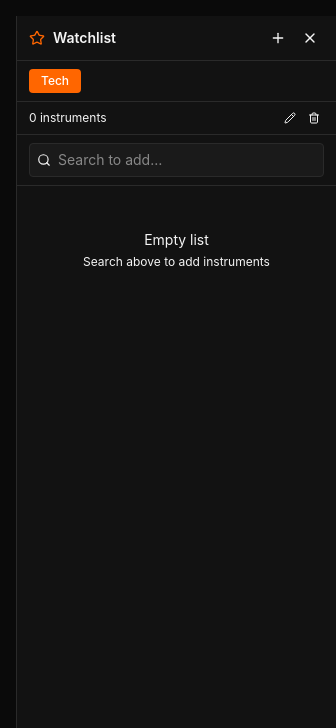
Test: add instrument › shows search results while typing
This screenshot has width=336, height=728.
Type "INFY" into the field with placeholder "Search to add…" at (176, 160), box [29,143,324,177]
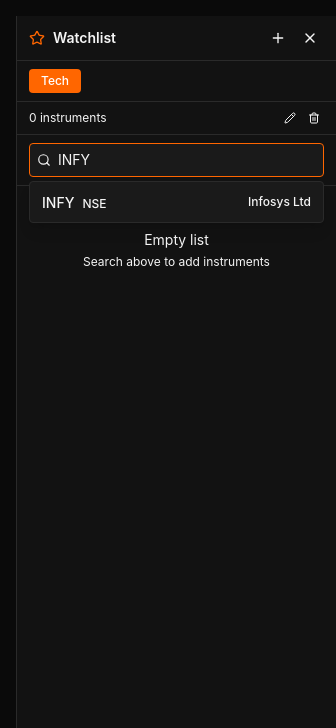
Check: the text "Infosys Ltd" is shown, box [248,194,311,210]
